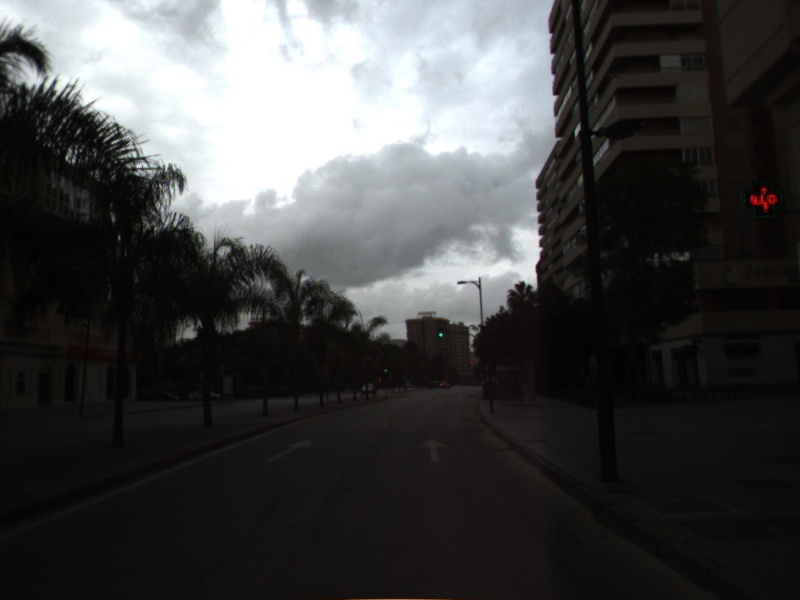STRAIGHT: (261, 436, 314, 465), (418, 435, 449, 465)
